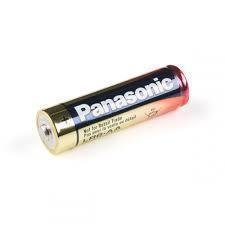AA: (34, 62, 192, 158)
